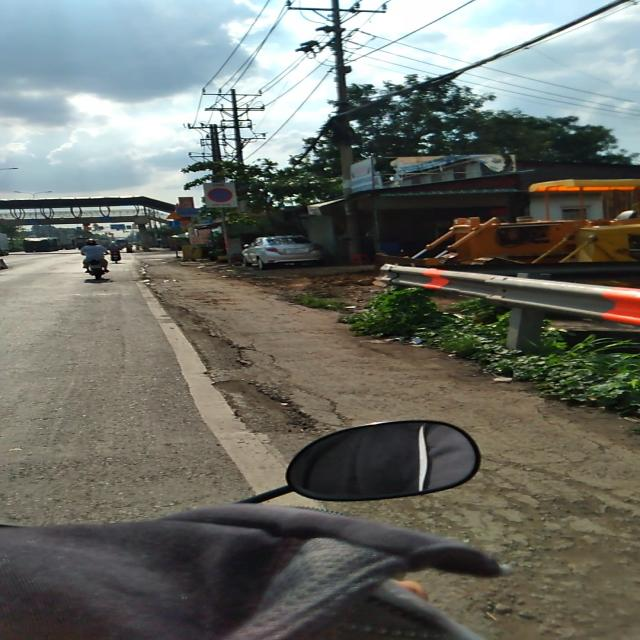Cam dung va do: (207, 188, 233, 202)
